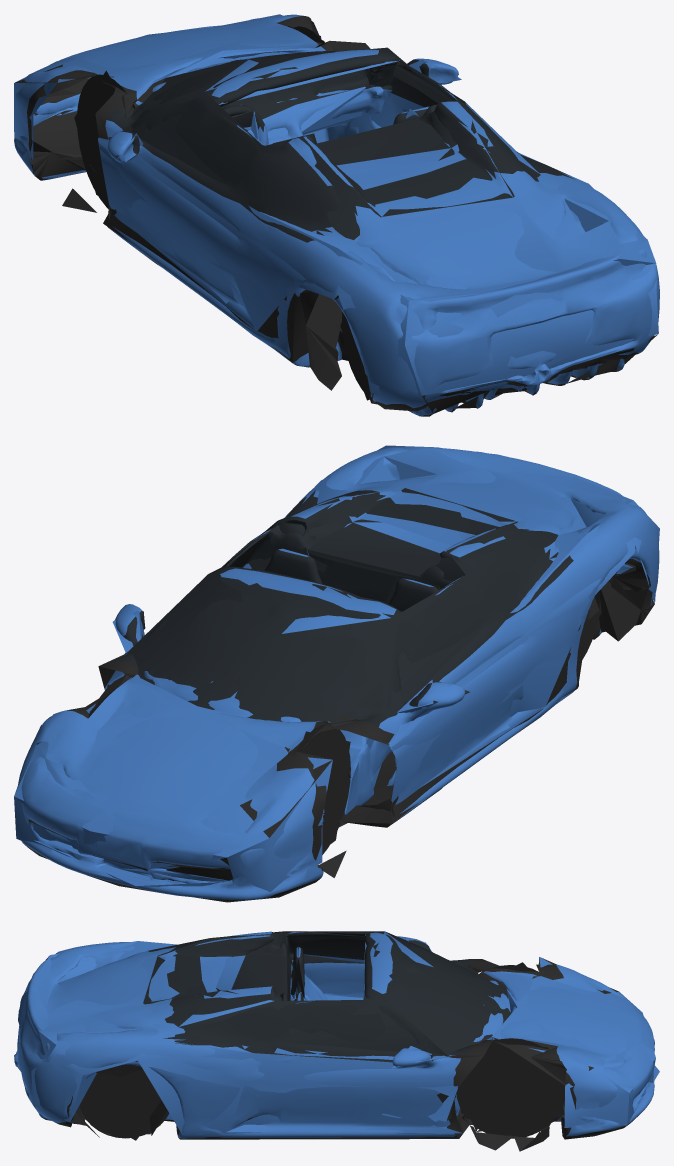
The model's file is ferrari-458-spider.glb.
3 views of the same model, one above another, from view 1: azimuth 30°, elevation 25°; view 2: azimuth 150°, elevation 25°; view 3: azimuth 270°, elevation 25° (orthographic). The views are drawn at different scales.
Visible parts, largest first — view 1: body, far; view 2: body, far; view 3: body, far.
Part boxes in pixels (left/top/right/bottom): body: left=14, top=14, right=659, bottom=416; far: left=14, top=14, right=658, bottom=413; body: left=18, top=447, right=659, bottom=902; far: left=14, top=445, right=659, bottom=891; body: left=14, top=931, right=654, bottom=1151; far: left=18, top=931, right=659, bottom=1140.
Bounding box in the file's own units: 2.15 × 1.16 × 4.65.
